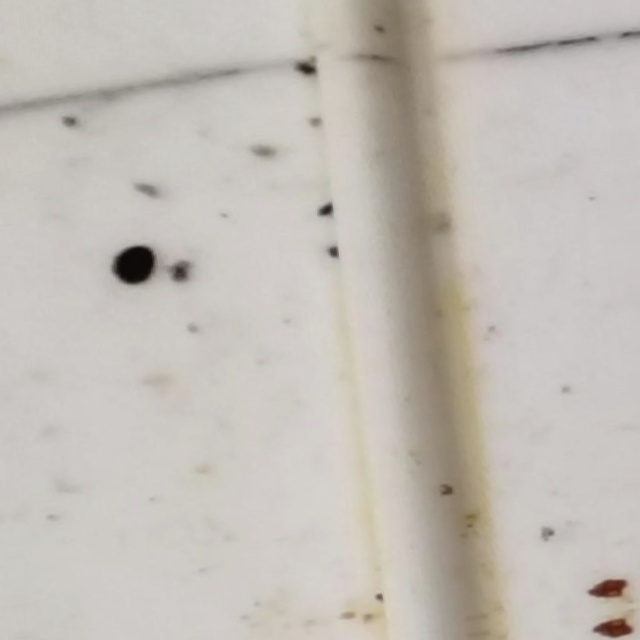varroa: (108, 243, 156, 290)
